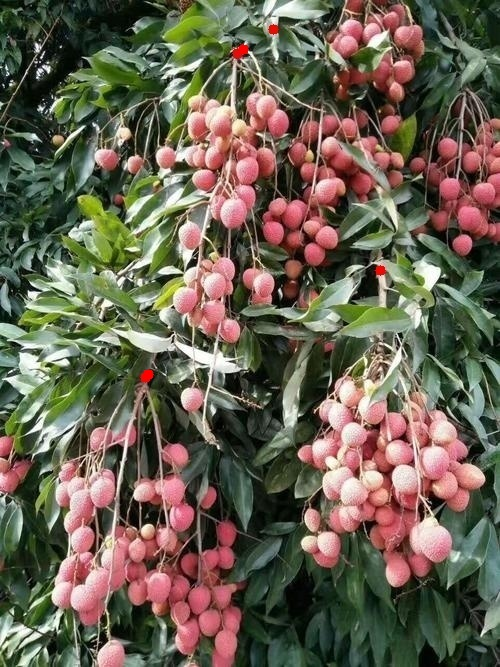litchi: (297, 369, 482, 582), (54, 423, 189, 666), (172, 96, 283, 340), (143, 487, 239, 667), (412, 116, 499, 253), (280, 113, 343, 276), (330, 1, 422, 99), (334, 105, 401, 189), (93, 140, 173, 175), (1, 434, 33, 493)
stem: (434, 5, 472, 101), (372, 246, 388, 367), (304, 21, 327, 105), (130, 348, 157, 397), (228, 33, 254, 66)
